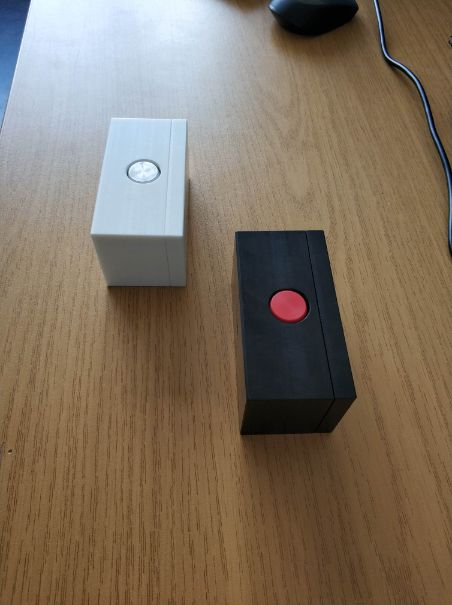black+black+red: (225, 227, 361, 440)
white+white+silver: (90, 115, 196, 288)
